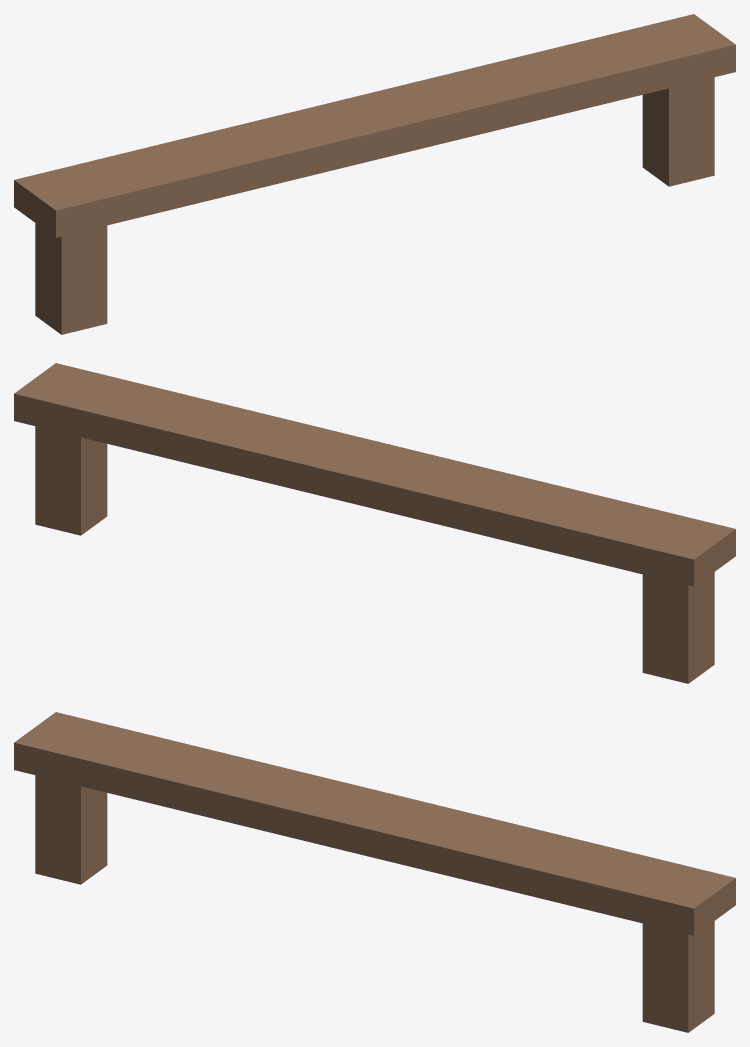
Rendered from fence_simpleLow.glb.
3 renders of one model, top to bottom at view 1: azimuth 30°, elevation 25°; view 2: azimuth 150°, elevation 25°; view 3: azimuth 330°, elevation 25°, orthographic.
Bounding box in the file's own units: 1.04 × 0.195 × 0.1112.
